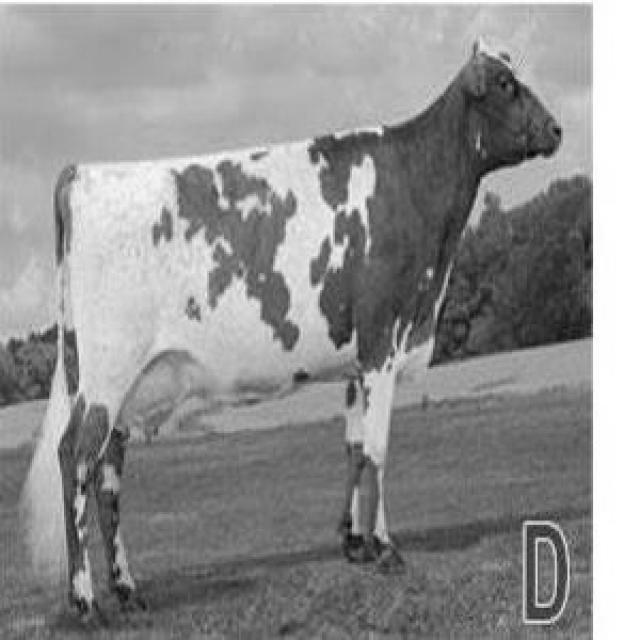cow: (26, 45, 561, 622)
